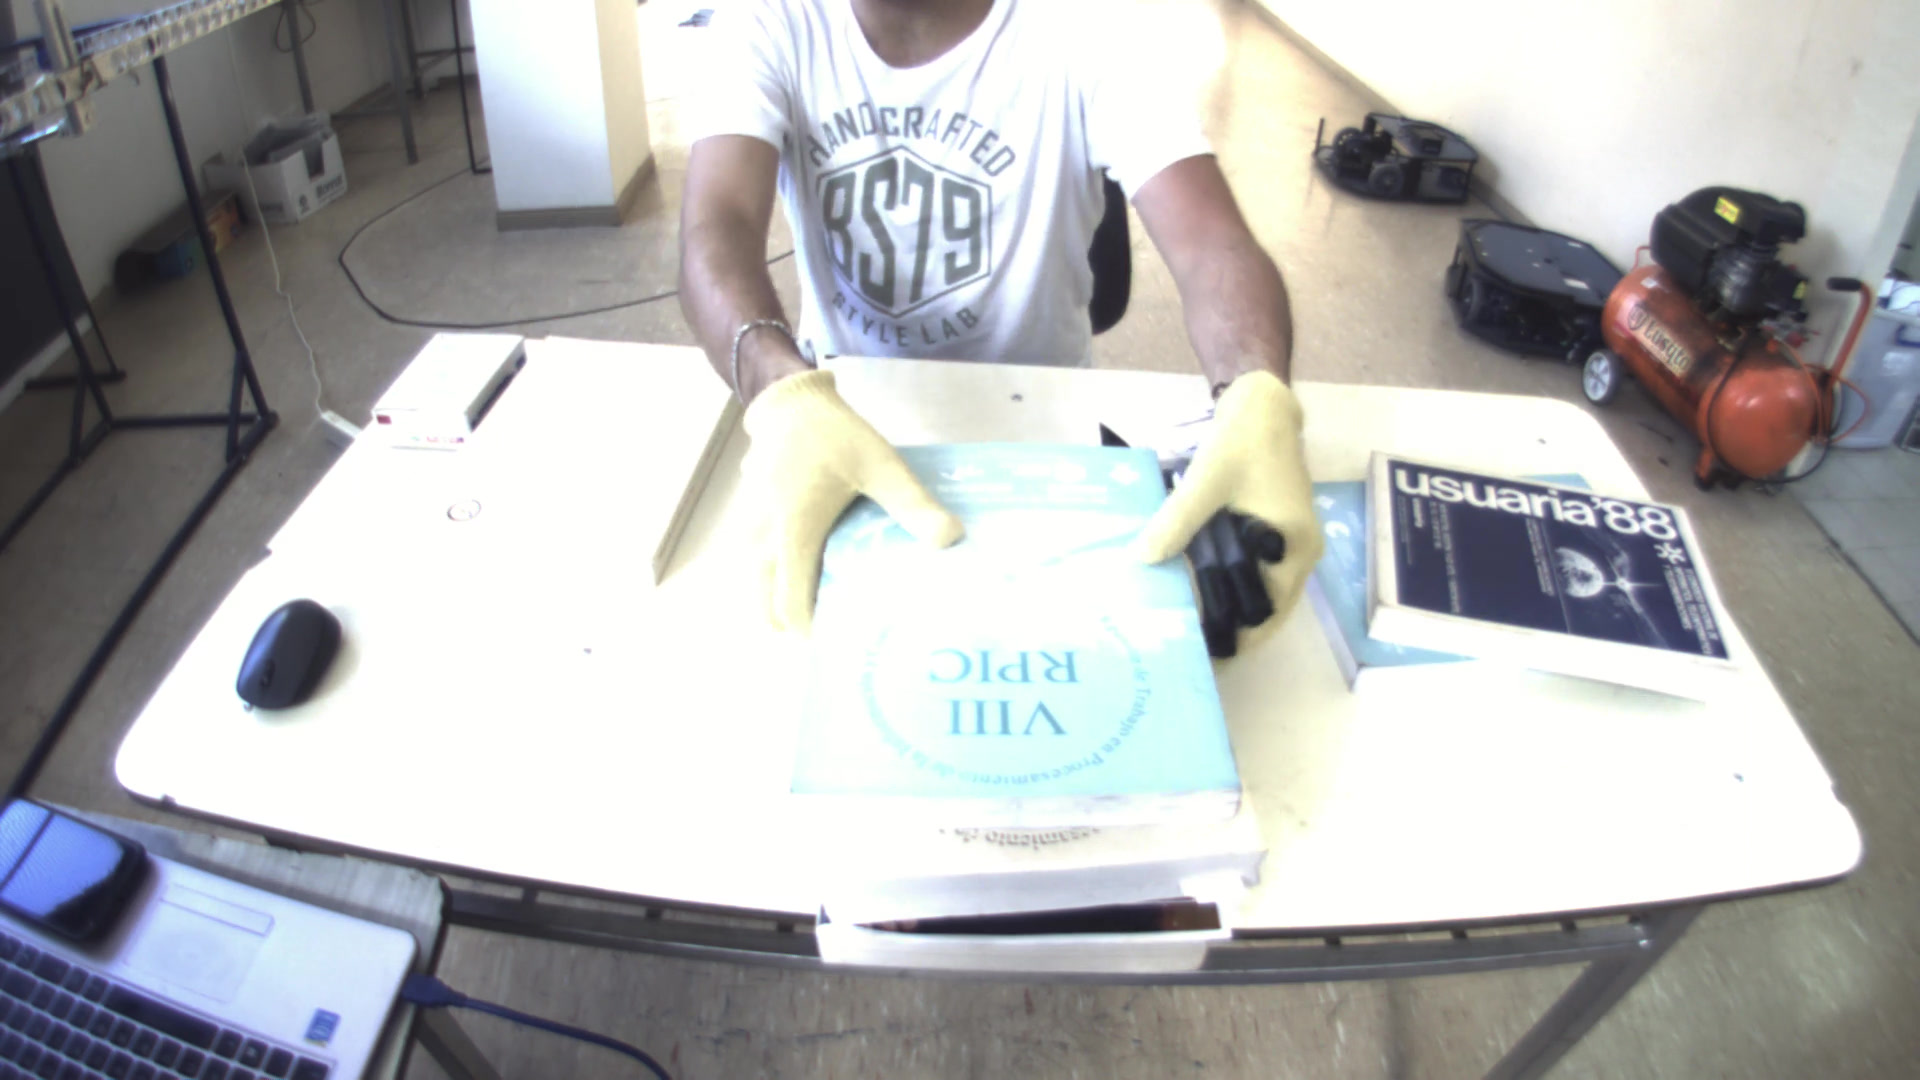hand: (738, 353, 969, 636), (1120, 364, 1338, 611)
